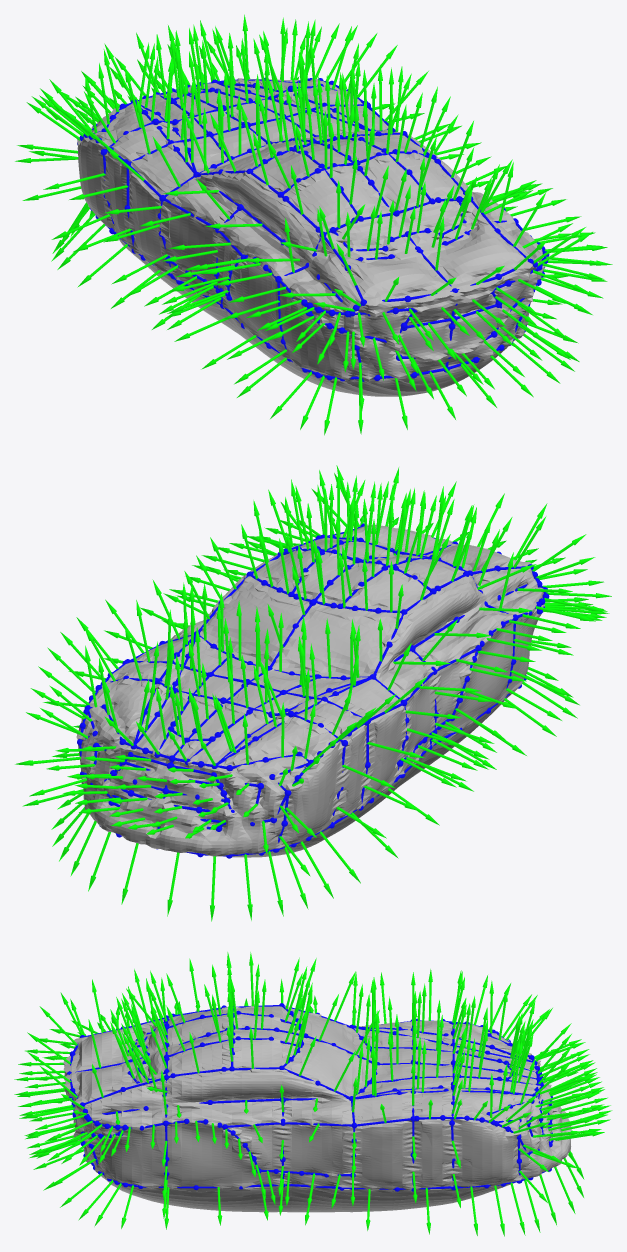
Rendered from ils_car5.gltf.
3 renders of one model, top to bottom at view 1: azimuth 30°, elevation 25°; view 2: azimuth 150°, elevation 25°; view 3: azimuth 270°, elevation 25°, orthographic. The views are drawn at different scales.
Bounding box in the file's own units: 0.6143 × 0.4404 × 1.06.
